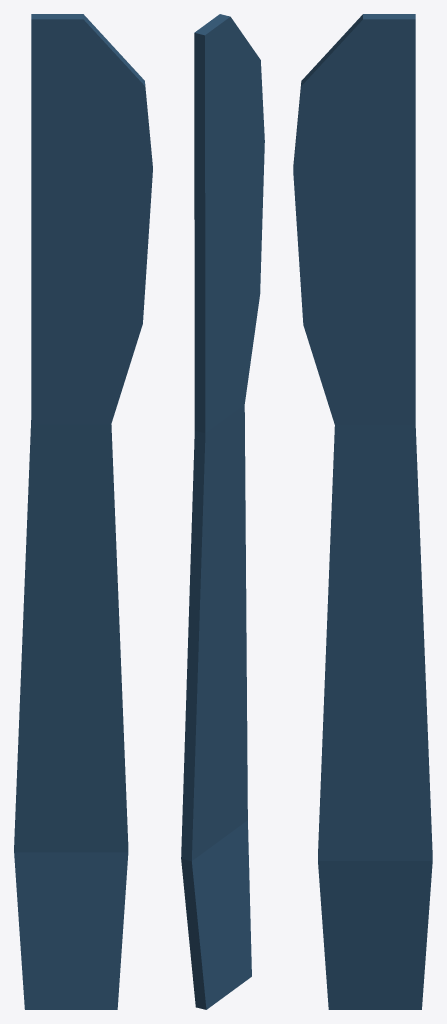
File: knife.fbx
3 views of the same model, side by side, from view 1: azimuth 90°, elevation 25°; view 2: azimuth 150°, elevation 25°; view 3: azimuth 270°, elevation 25° (orthographic). The views are drawn at different scales.
Visible parts, largest first — view 1: Knife; view 2: Knife; view 3: Knife.
Boxes of the visible parts, x1,y1,x2,y2 form: Knife: [14, 14, 152, 1009]; Knife: [181, 14, 264, 1009]; Knife: [293, 14, 432, 1009].
Size of the model in its own units: 0.5483 by 25.27 by 3.22.
1 material, 1 textured.
